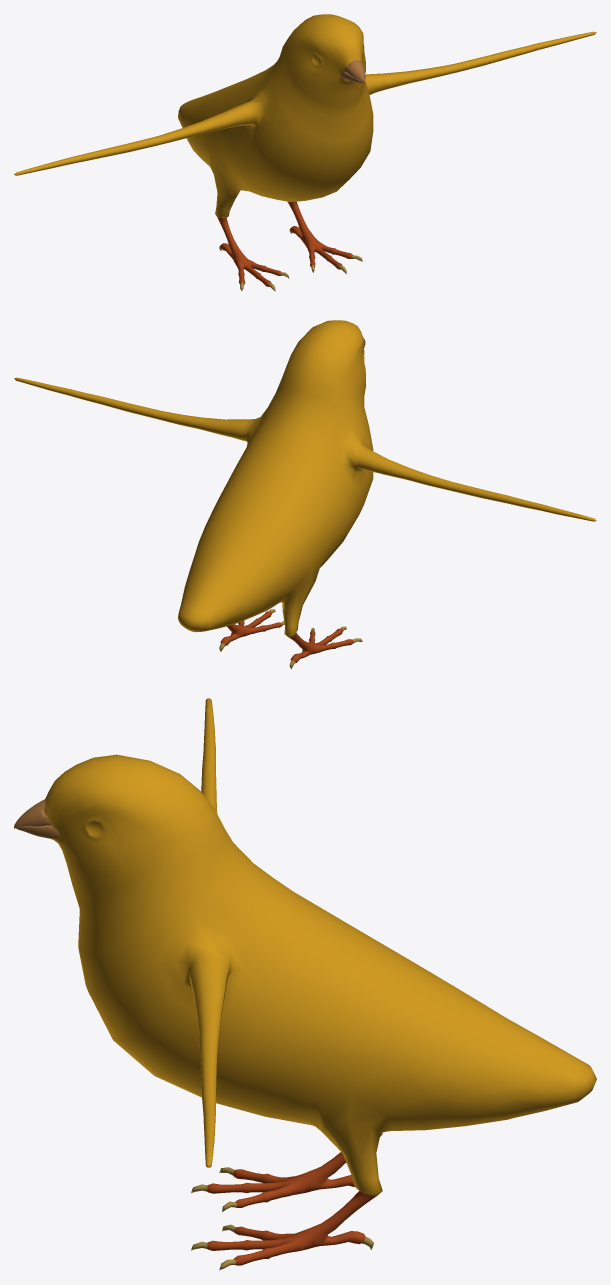
File: canary_canary.obj
3 views of the same model, one above another, from view 1: azimuth 30°, elevation 25°; view 2: azimuth 150°, elevation 25°; view 3: azimuth 270°, elevation 25° (orthographic). The views are drawn at different scales.
Visible parts, largest first — view 1: canary; view 2: canary; view 3: canary.
Part boxes in pixels (<box>): canary: <box>14,14,596,291</box>; canary: <box>14,320,596,669</box>; canary: <box>14,698,596,1270</box>.
Size of the model in its own units: 0.1851 by 0.0851 by 0.0972.
